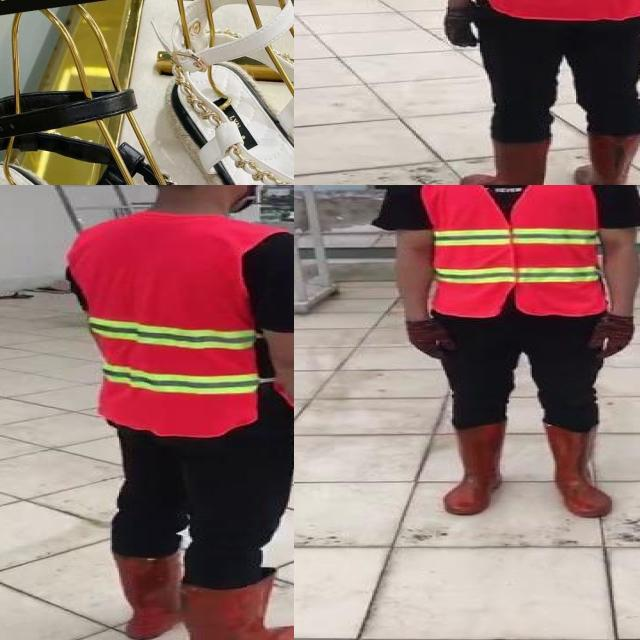Sandals: (0, 0, 294, 185), (145, 0, 294, 185)
boots: (181, 573, 294, 640), (546, 420, 612, 519), (108, 552, 181, 640), (445, 420, 502, 517), (462, 137, 549, 185), (574, 132, 640, 185)
hand_glove: (406, 318, 459, 361), (589, 315, 633, 359), (441, 6, 483, 49)
person: (41, 185, 294, 640), (372, 185, 640, 527), (436, 0, 640, 185)
vest: (69, 214, 277, 435), (421, 185, 608, 318)
